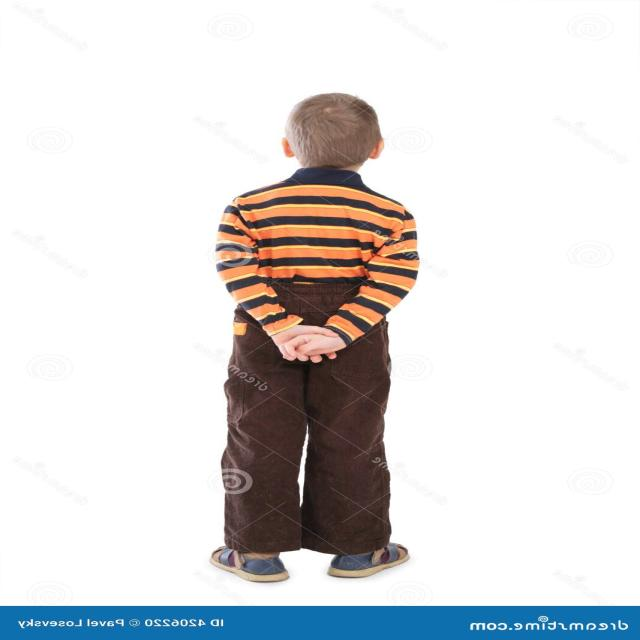child: (207, 91, 424, 585)
